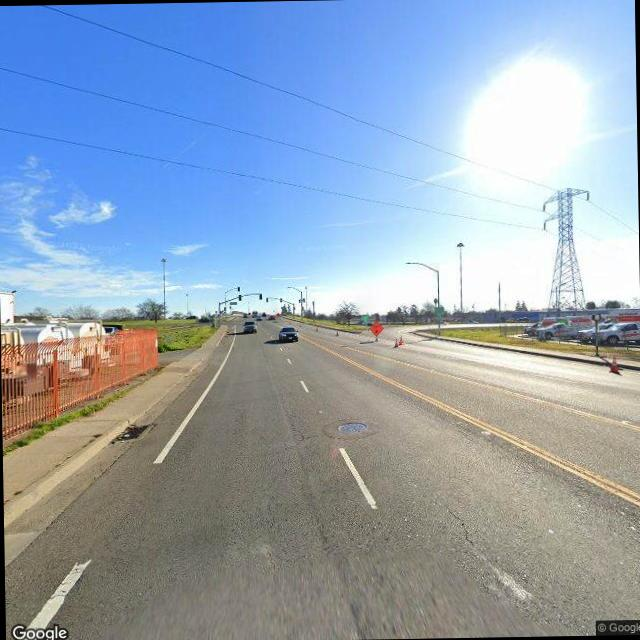crack: (431, 495, 490, 558)
